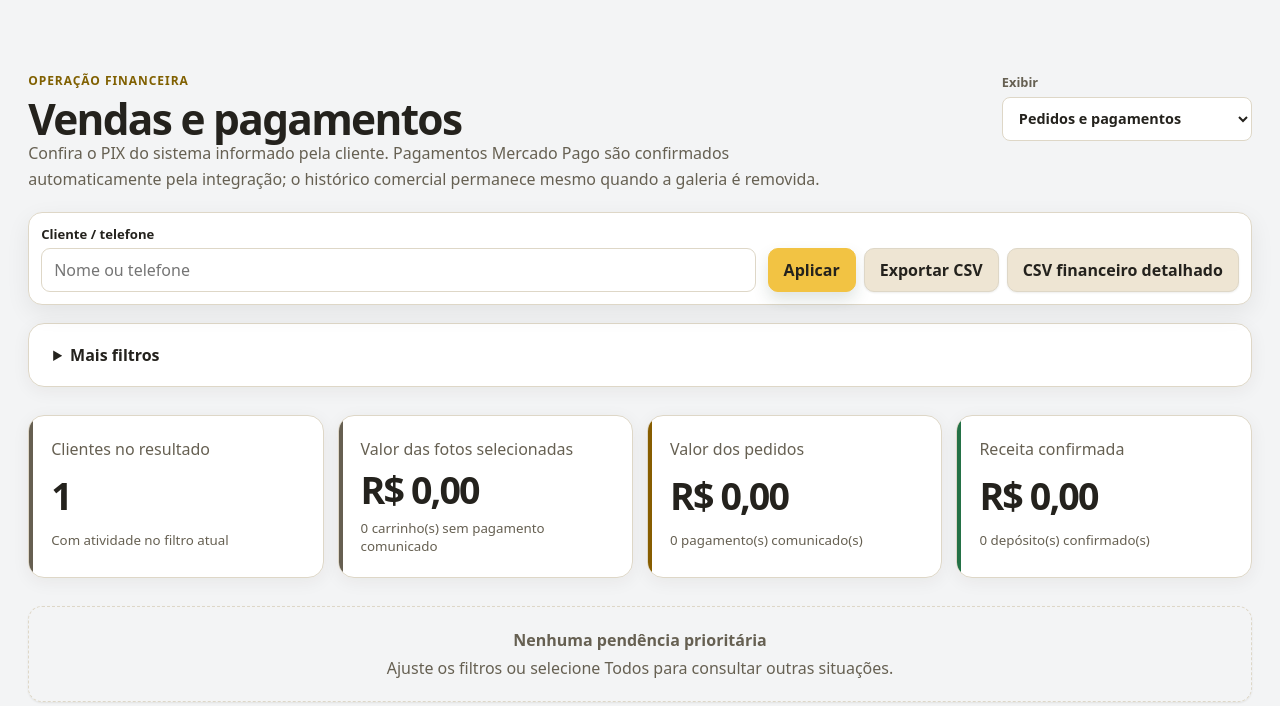
Test case: descarta uma resposta antiga quando a consulta livre muda
This screenshot has width=1280, height=706.
Type "antiga" into the dropdown labelled "Cliente / telefone" at (398, 270), box [41,248,756,292]
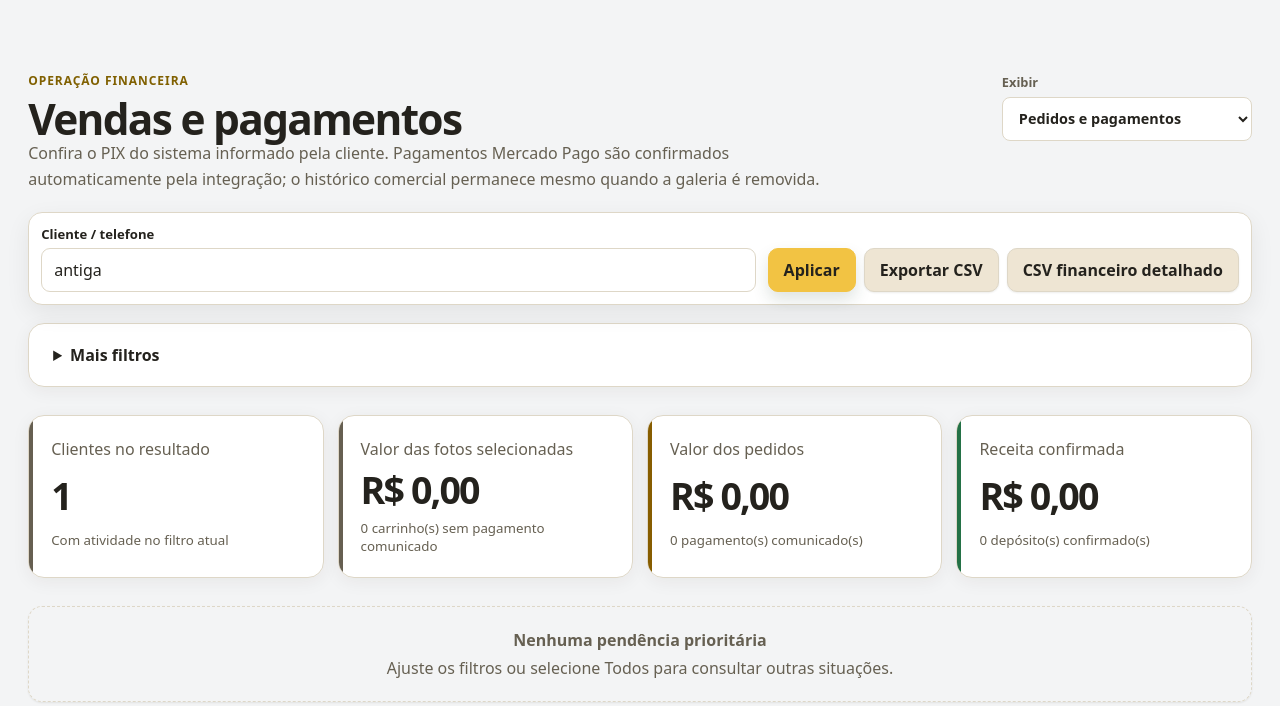
Click the button "Aplicar" at (812, 270), box [768,248,856,292]
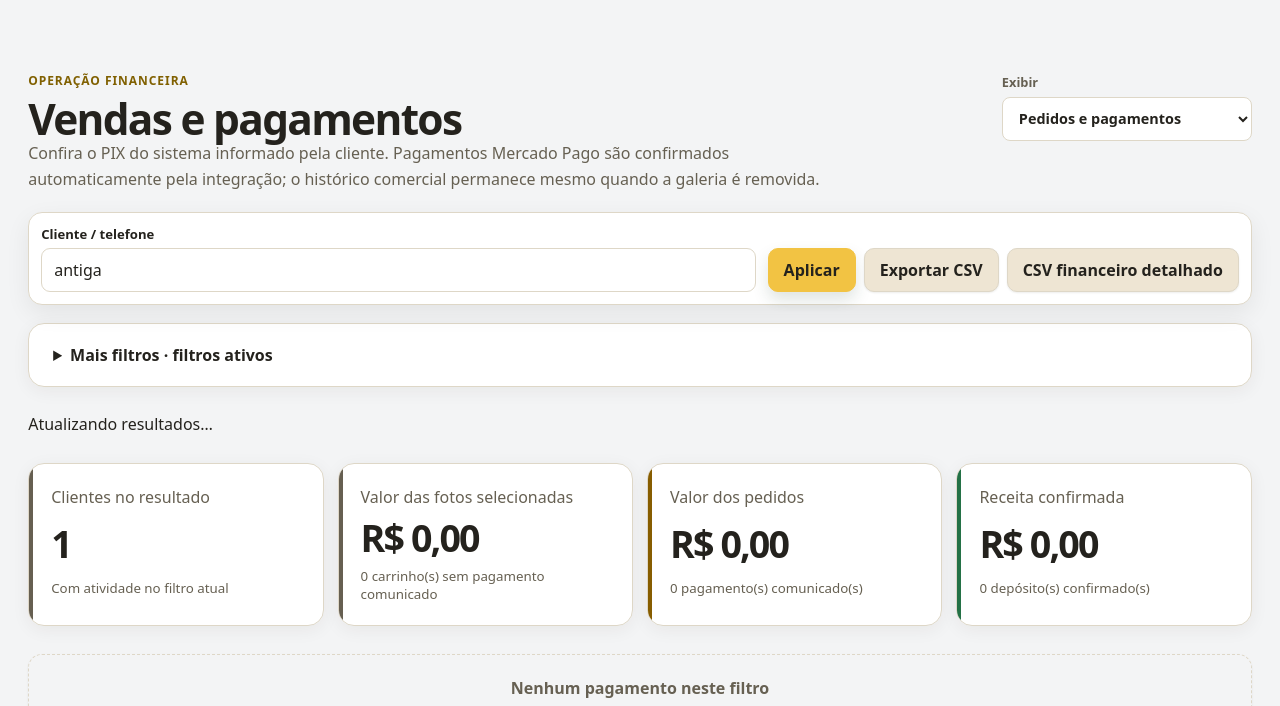
Replace the text in the dropdown labelled "Cliente / telefone" with "nova" at (398, 270), box [41,248,756,292]
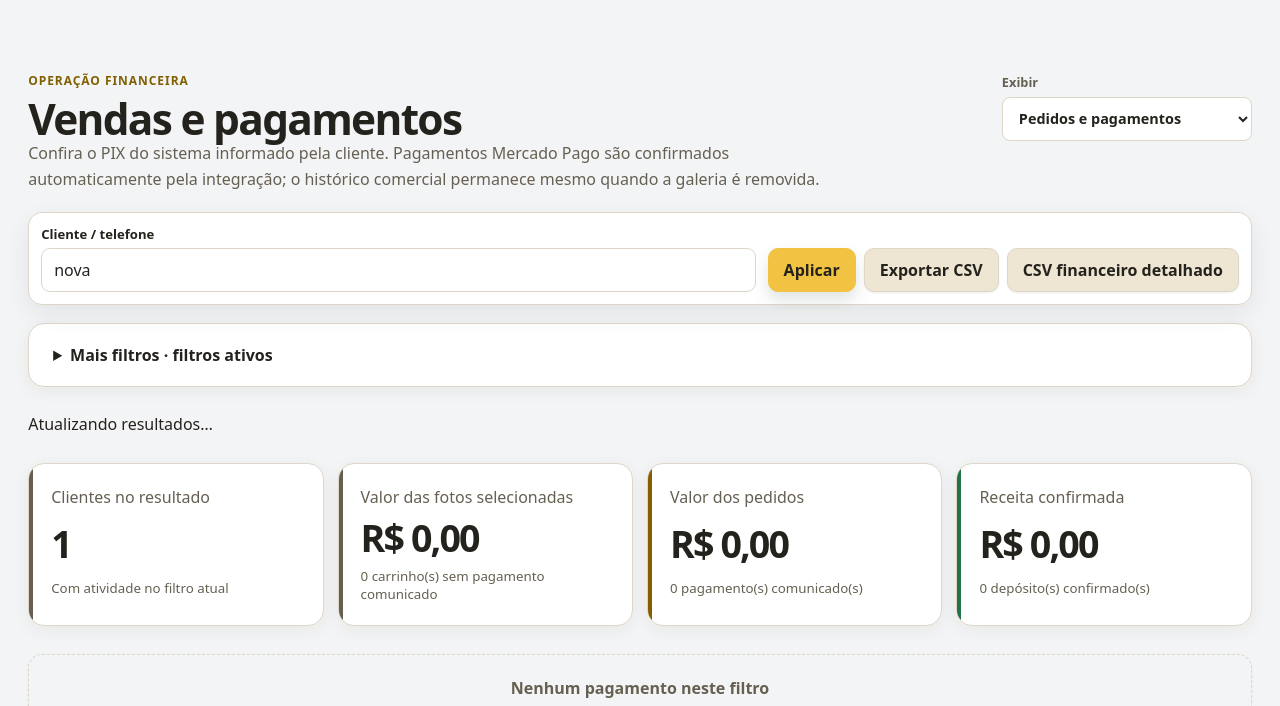
Click the button "Aplicar" at (812, 270), box [768,248,856,292]
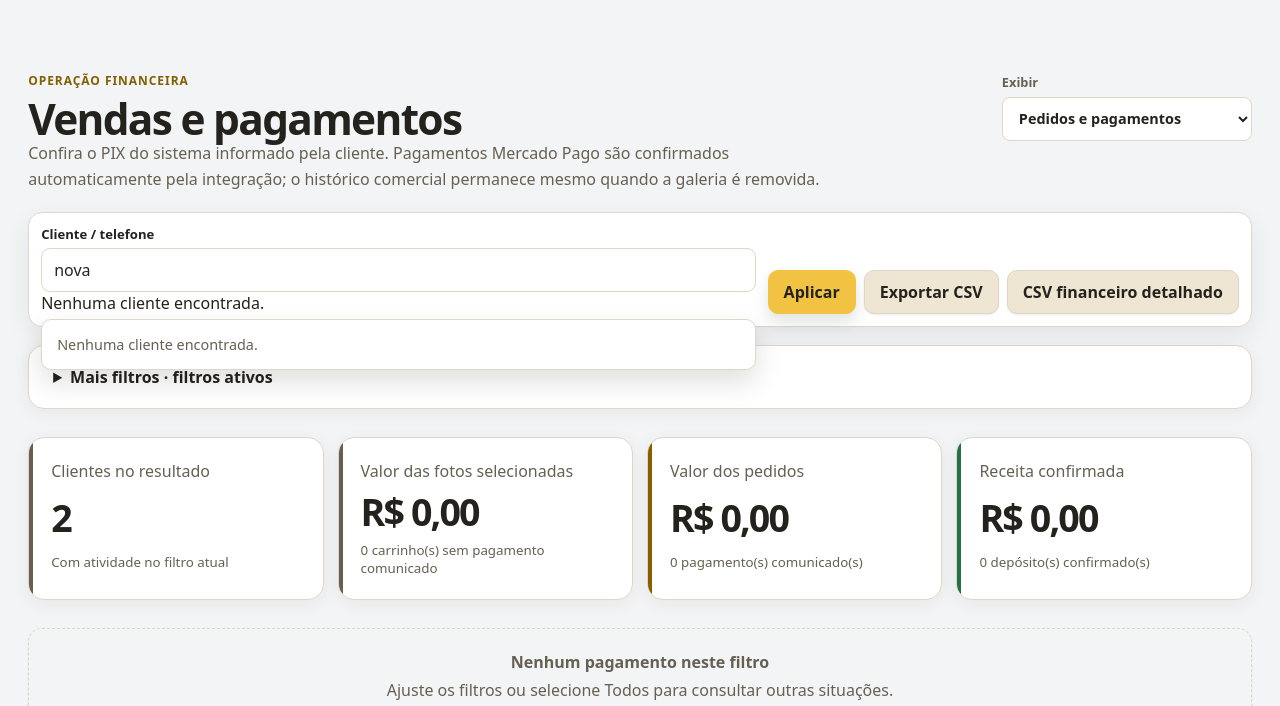
Expected: the text "2" is shown, [51,492,71,543]
